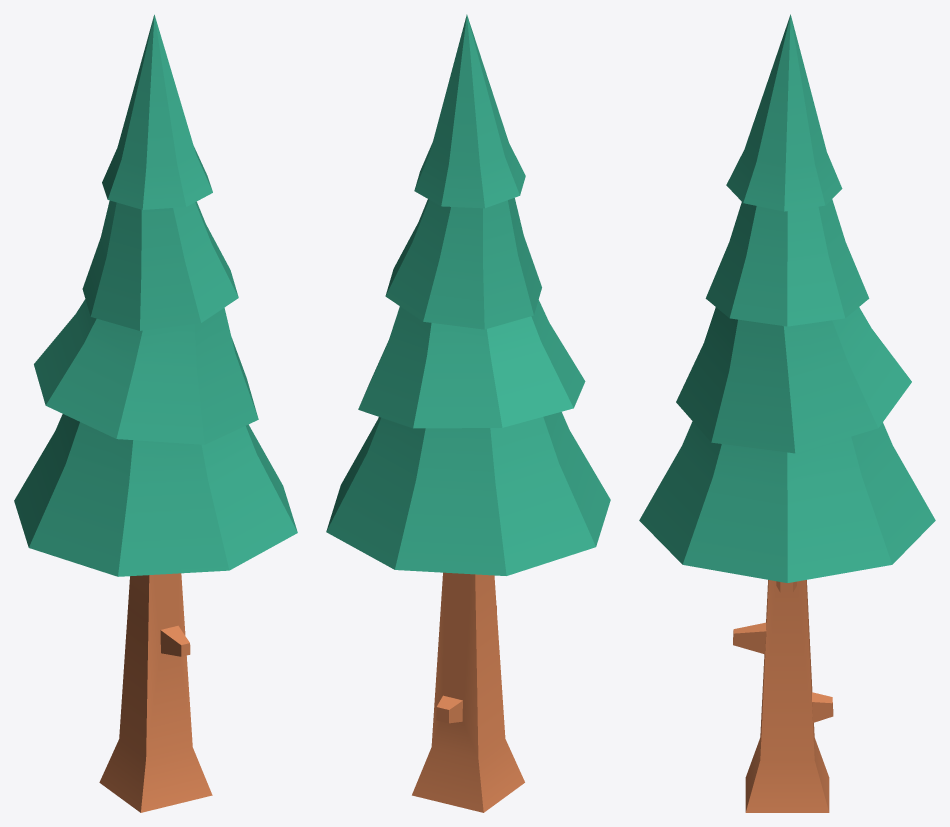
The model's file is treeHighCrooked.obj.
3 renders of one model, left to right at view 1: azimuth 30°, elevation 25°; view 2: azimuth 150°, elevation 25°; view 3: azimuth 270°, elevation 25°, orthographic.
Visible parts, largest first — view 1: treeHighCrooked; view 2: treeHighCrooked; view 3: treeHighCrooked.
Part boxes in pixels (x1,y1,x2,y2): treeHighCrooked: [14, 14, 297, 812]; treeHighCrooked: [326, 14, 610, 812]; treeHighCrooked: [639, 14, 935, 812].
Bounding box in the file's own units: 1.02 × 2.97 × 1.02.
